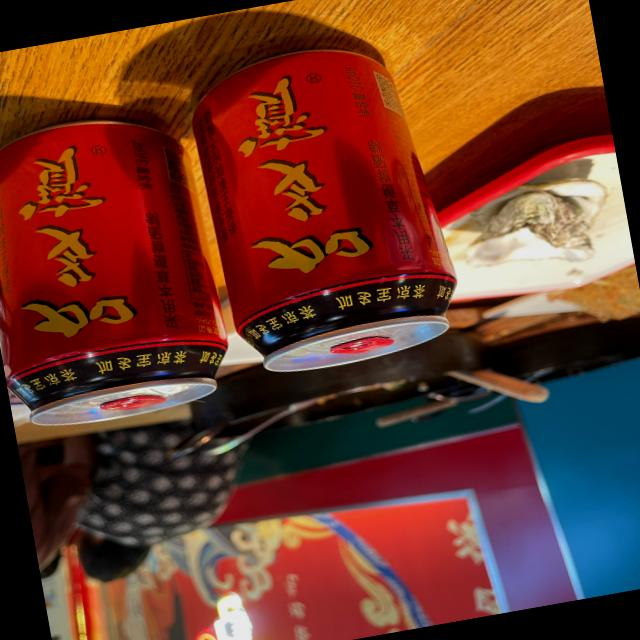can: (181, 28, 471, 386), (0, 98, 242, 439)
